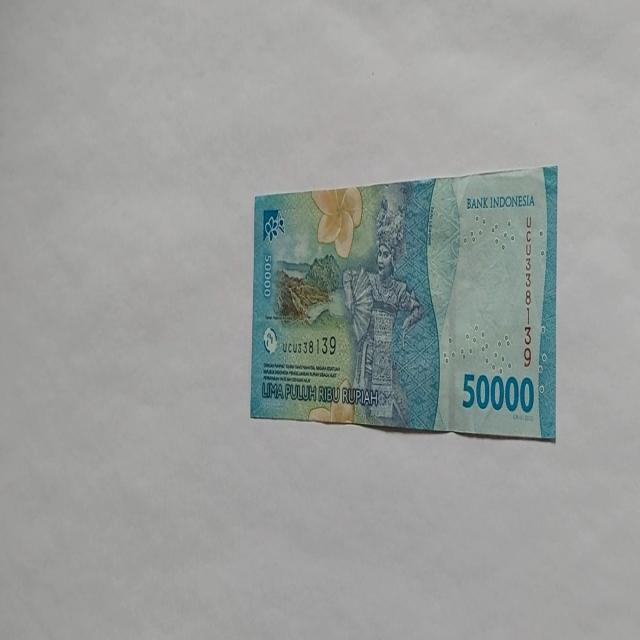lima puluh ribu rupiah: (249, 164, 559, 442)
